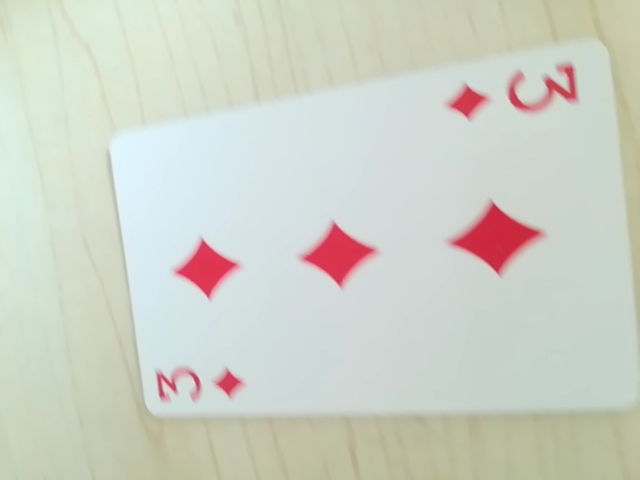fk 3: (446, 55, 588, 128), (153, 356, 250, 412)
